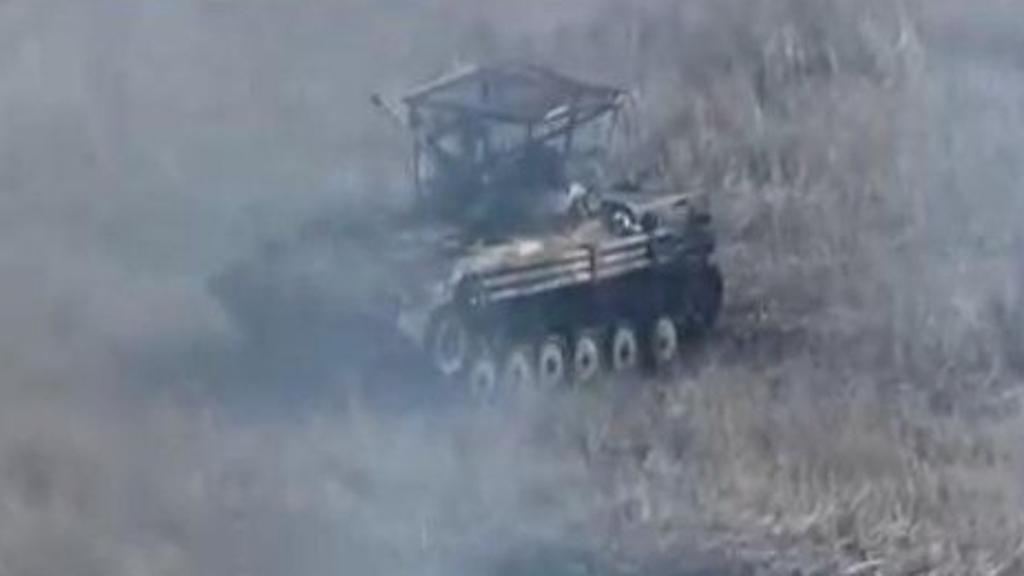APC-IFV: (202, 64, 722, 400)
